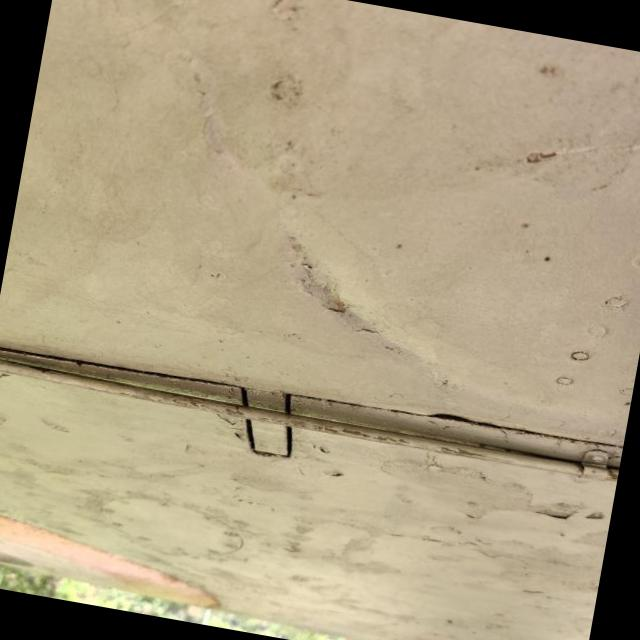Dent: (229, 180, 459, 410)
